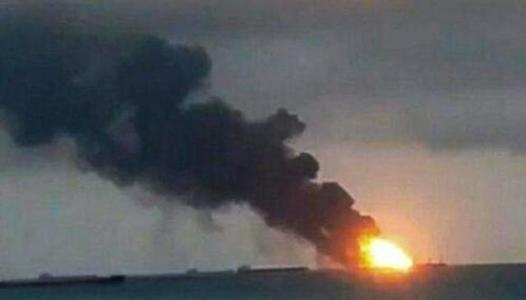fire: (355, 228, 415, 270)
